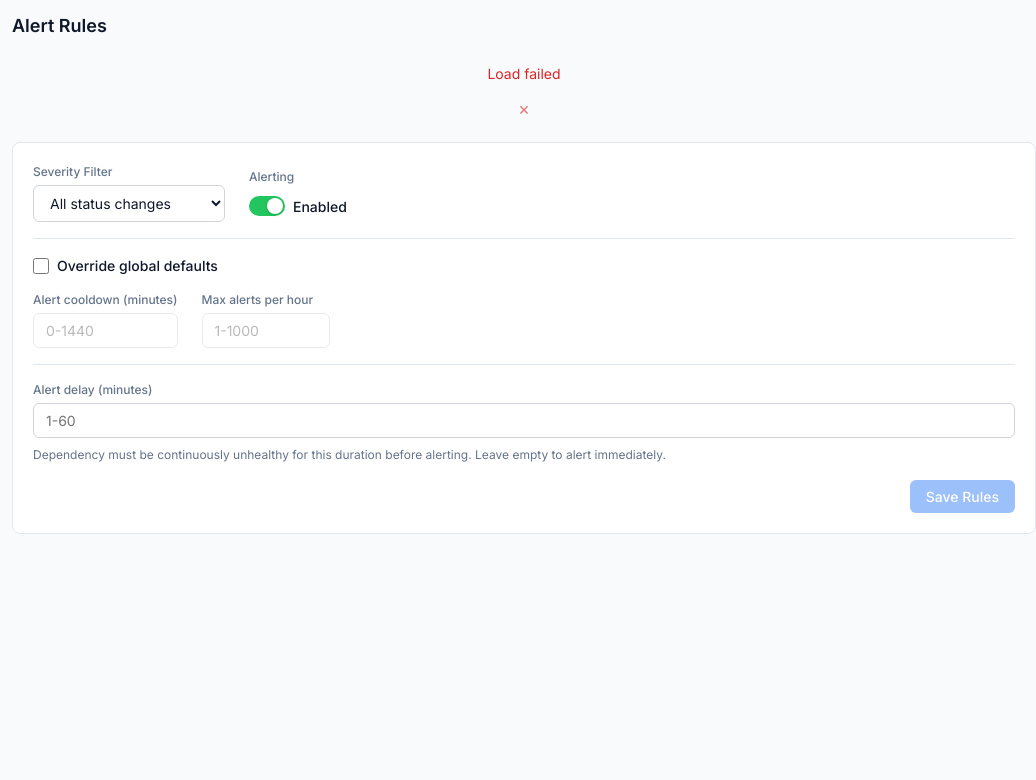
AlertRules › dismisses error when dismiss button clicked
Expected: the text "Load failed" is shown, [487,65,561,82]
Click the button named "Dismiss error" at (524, 109), box [514,100,534,118]
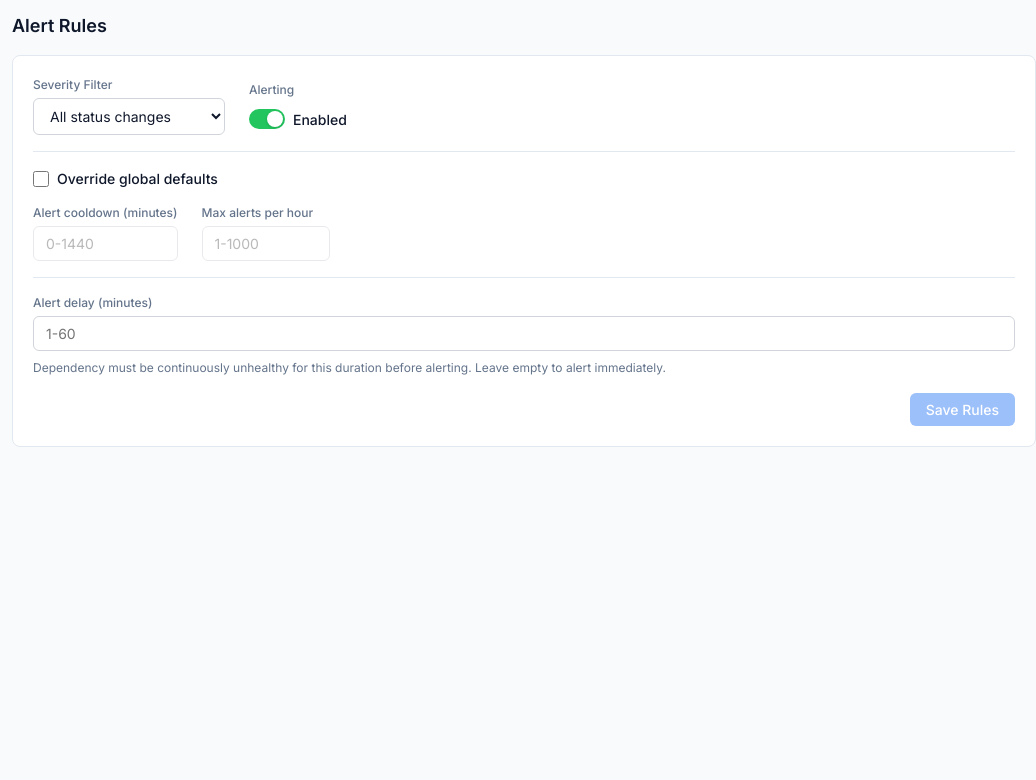
Now the text "Load failed" is gone
